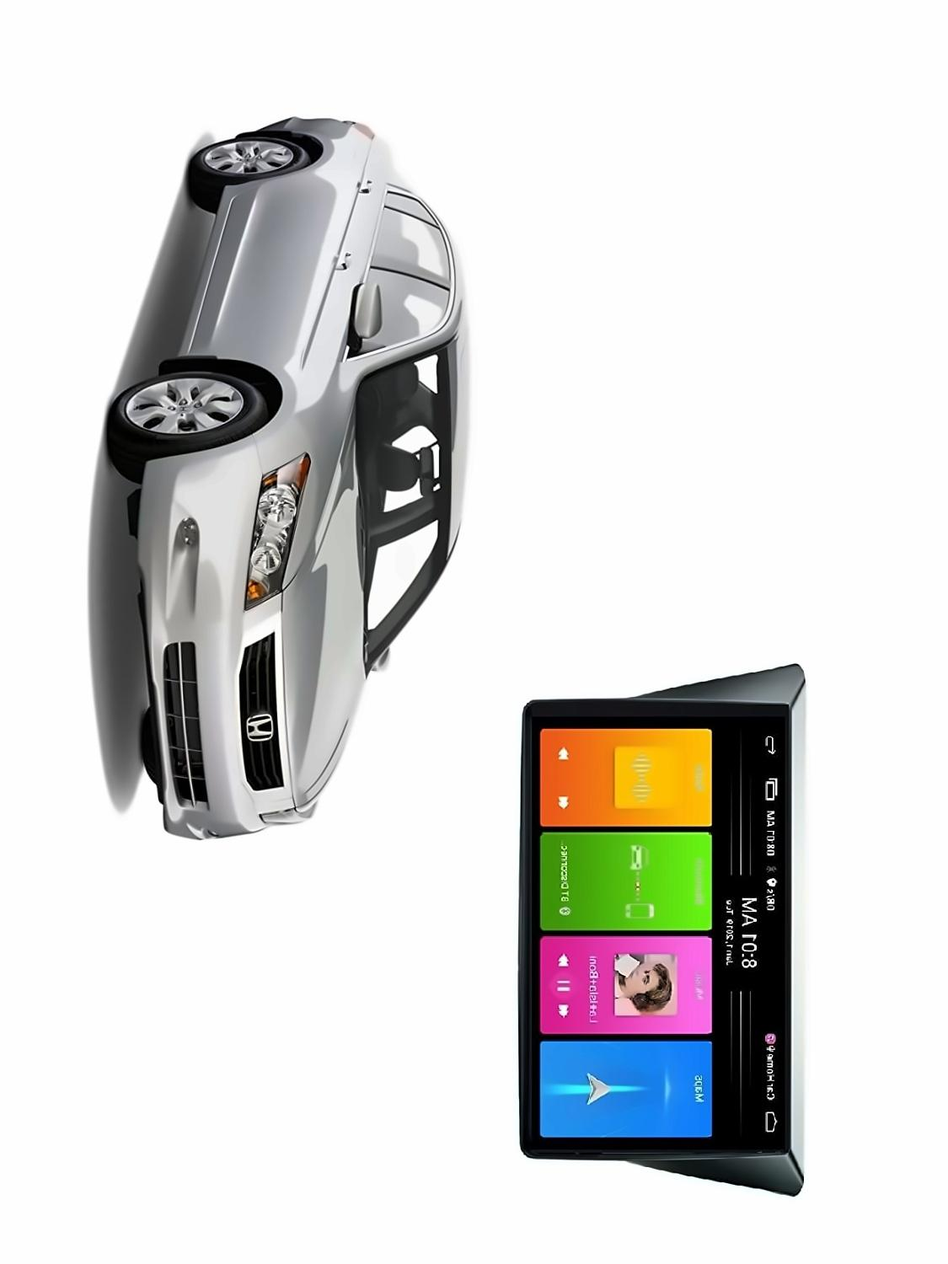Car hood: (278, 407, 374, 815)
Driver-s door - -F-R-: (194, 270, 462, 367)
Fender - -F-R-: (179, 351, 365, 477)
Fender - -R-R-: (218, 131, 384, 189)
Front bumper: (129, 443, 256, 847)
Headlight - -L-: (250, 791, 327, 834)
Headlight - -R-: (239, 445, 318, 616)
Passenger-s door - -R-R-: (212, 174, 462, 270)
Rear bumper: (230, 109, 312, 143)
Rear light - -R-: (330, 115, 386, 140)
Side bumper - -R-: (155, 176, 235, 383)
Side mirror - -R-: (346, 273, 387, 358)
